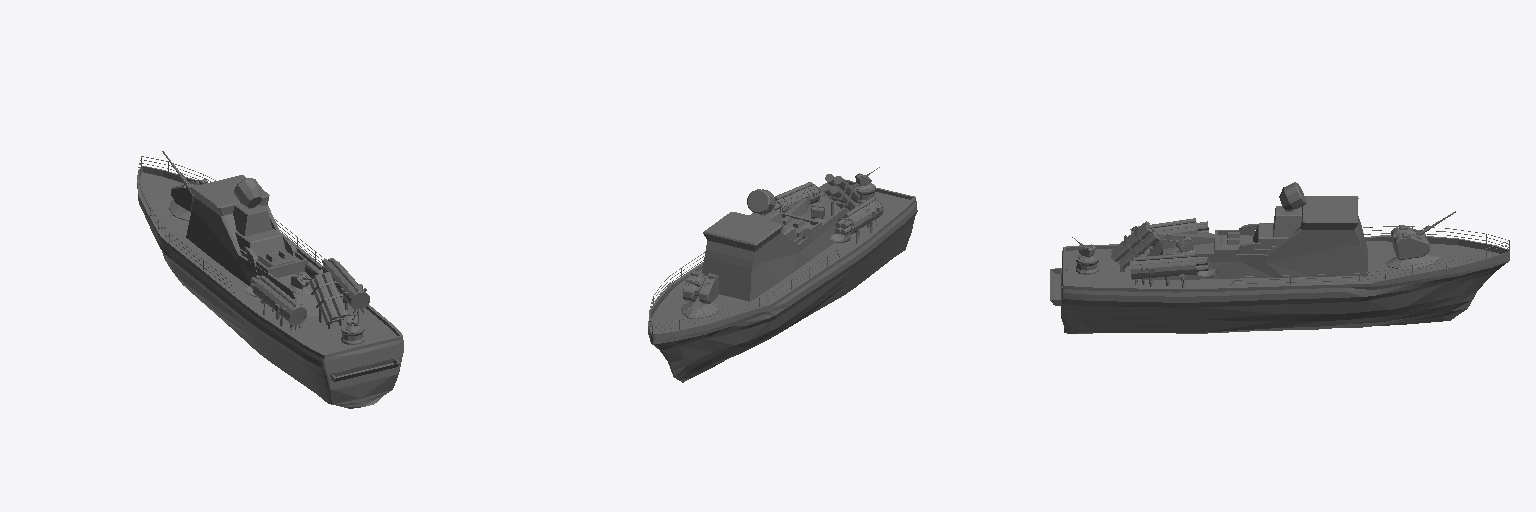
File: navy_vessel.obj
3 views of the same model, side by side, from view 1: azimuth 30°, elevation 25°; view 2: azimuth 150°, elevation 25°; view 3: azimuth 270°, elevation 25° (orthographic).
Parts seen in each view (by area): view 1: Mesh09; view 2: Mesh09; view 3: Mesh09.
Boxes of the visible parts, box(x1,y1,x2,y2) form: Mesh09: box(137, 151, 403, 408); Mesh09: box(648, 167, 917, 382); Mesh09: box(1050, 182, 1509, 333).
Bounding box in the file's own units: 9.08 × 12.59 × 36.53.